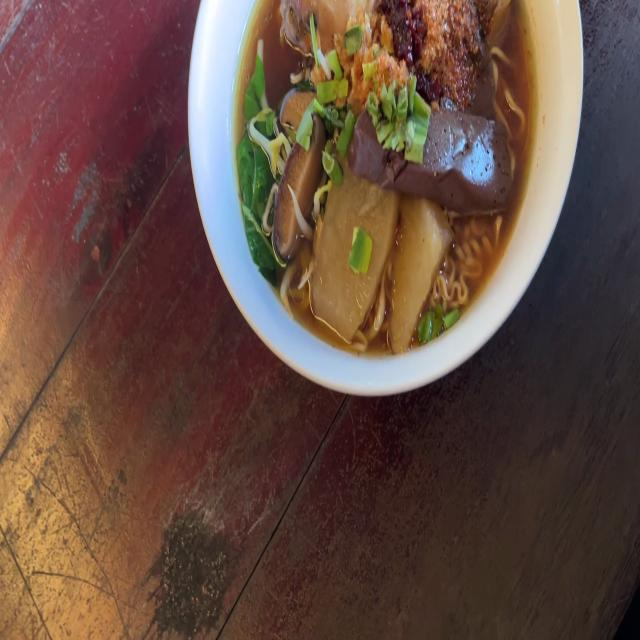noodle: (247, 6, 523, 312)
